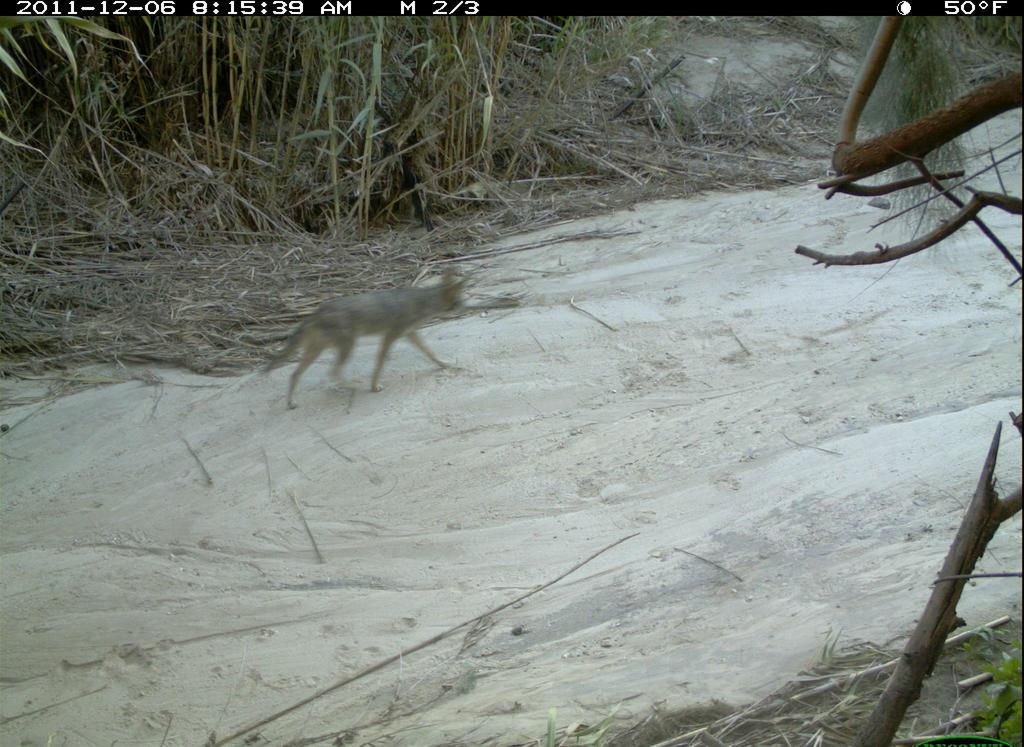coyote: (262, 263, 482, 425)
